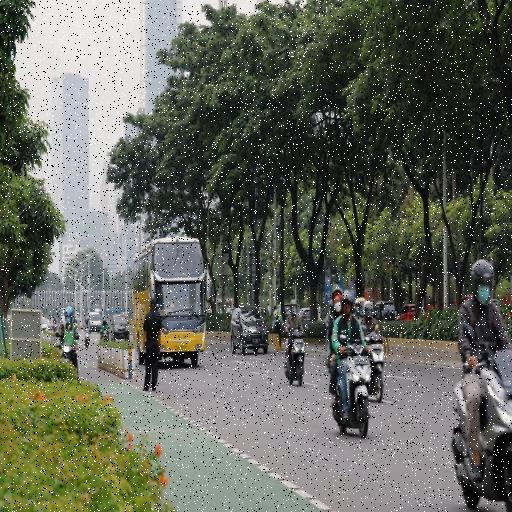Helmet: (465, 257, 499, 307), (357, 300, 374, 319), (333, 286, 343, 318), (343, 289, 353, 321), (63, 309, 74, 323), (290, 302, 298, 317)
Motor: (442, 346, 512, 501), (322, 344, 370, 438), (359, 330, 385, 400), (284, 341, 306, 387), (56, 340, 79, 360)
